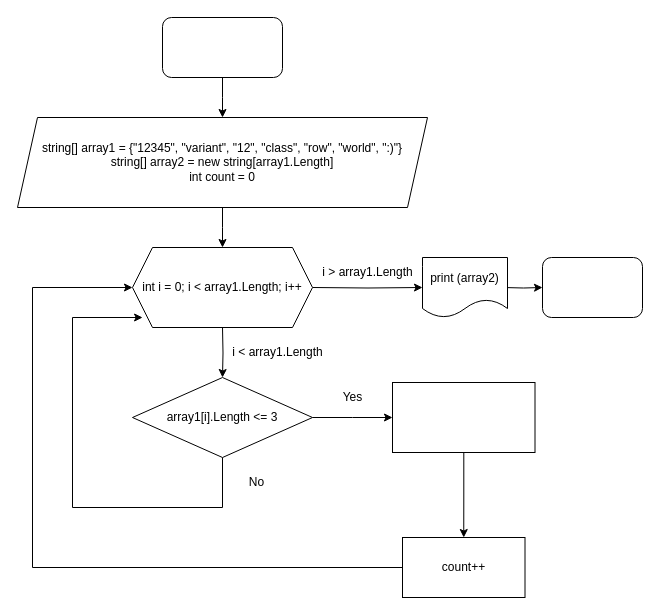
The diagram is 660 pixels wide and 616 high, and some of its shapes have lost their labels. The shapes that lost their labels are listed below. From the top down, each one's centre as x and y in pixels, then its label:
At point 222,47: "Start".
At point 592,287: "End".
At point 463,417: "array2[count] = array1[i]".
